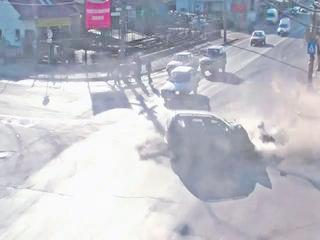Car: (168, 111, 255, 163), (230, 119, 285, 163), (159, 67, 204, 98), (201, 45, 227, 75), (166, 51, 196, 74), (250, 30, 266, 46), (277, 18, 291, 36), (266, 8, 278, 24)
Major Accident: (168, 110, 286, 165)
